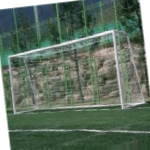goals: (7, 29, 146, 117)
